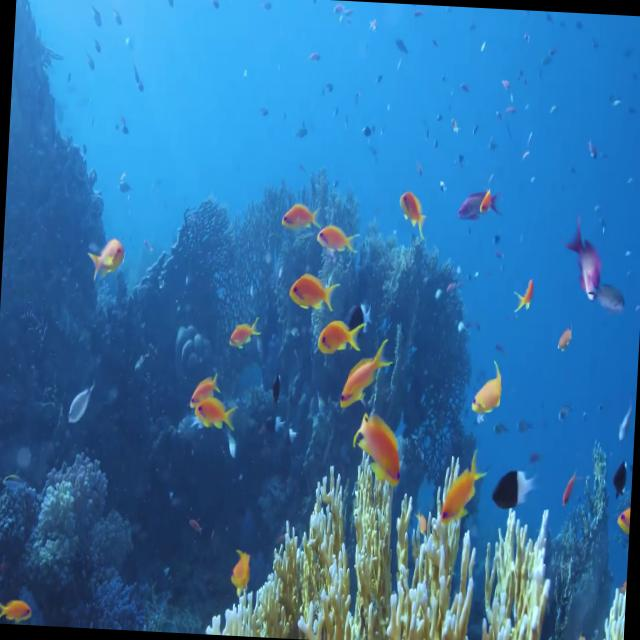fish: (348, 402, 414, 487), (333, 334, 395, 416), (434, 446, 486, 530), (564, 219, 610, 309), (310, 305, 369, 365), (280, 271, 342, 324), (468, 356, 512, 429), (281, 179, 331, 237), (62, 372, 108, 434), (218, 302, 268, 358), (311, 210, 363, 262), (498, 458, 541, 518), (456, 181, 504, 234), (84, 230, 128, 282), (190, 396, 238, 442), (506, 269, 544, 326), (551, 463, 589, 516), (399, 184, 429, 246), (225, 546, 263, 594), (190, 360, 222, 408), (0, 581, 34, 625), (550, 314, 578, 349), (614, 392, 632, 441), (614, 494, 632, 532)
